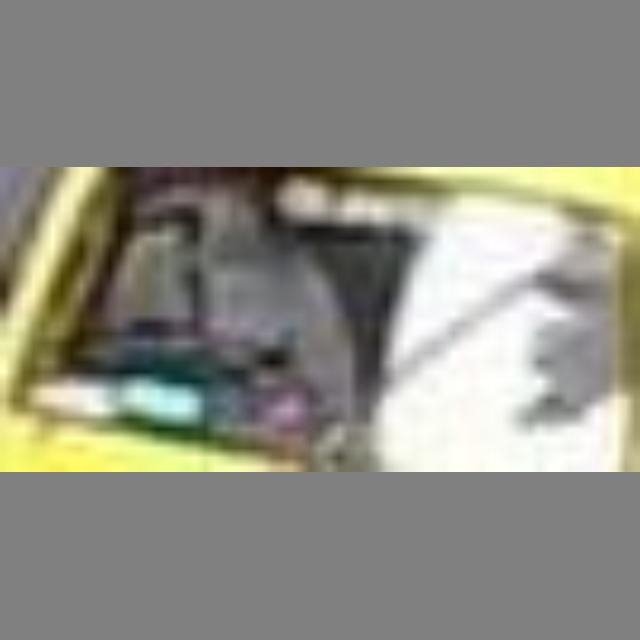tidak-pakai: (96, 196, 344, 415)
